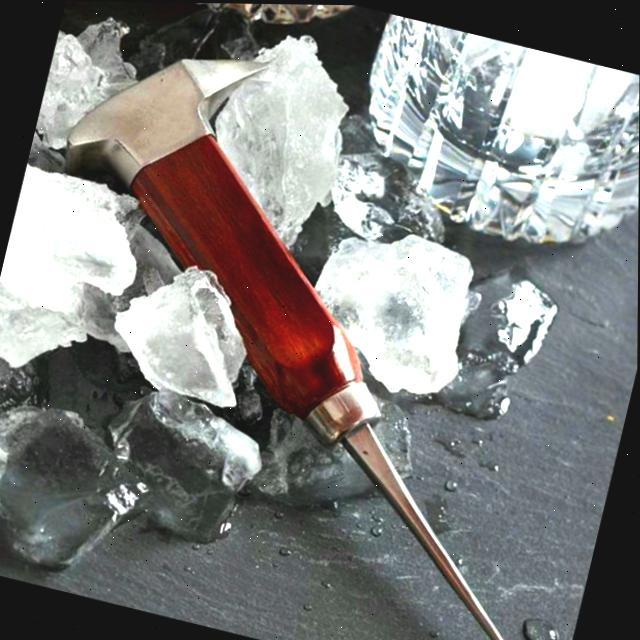ice pick: (0, 17, 640, 640)
